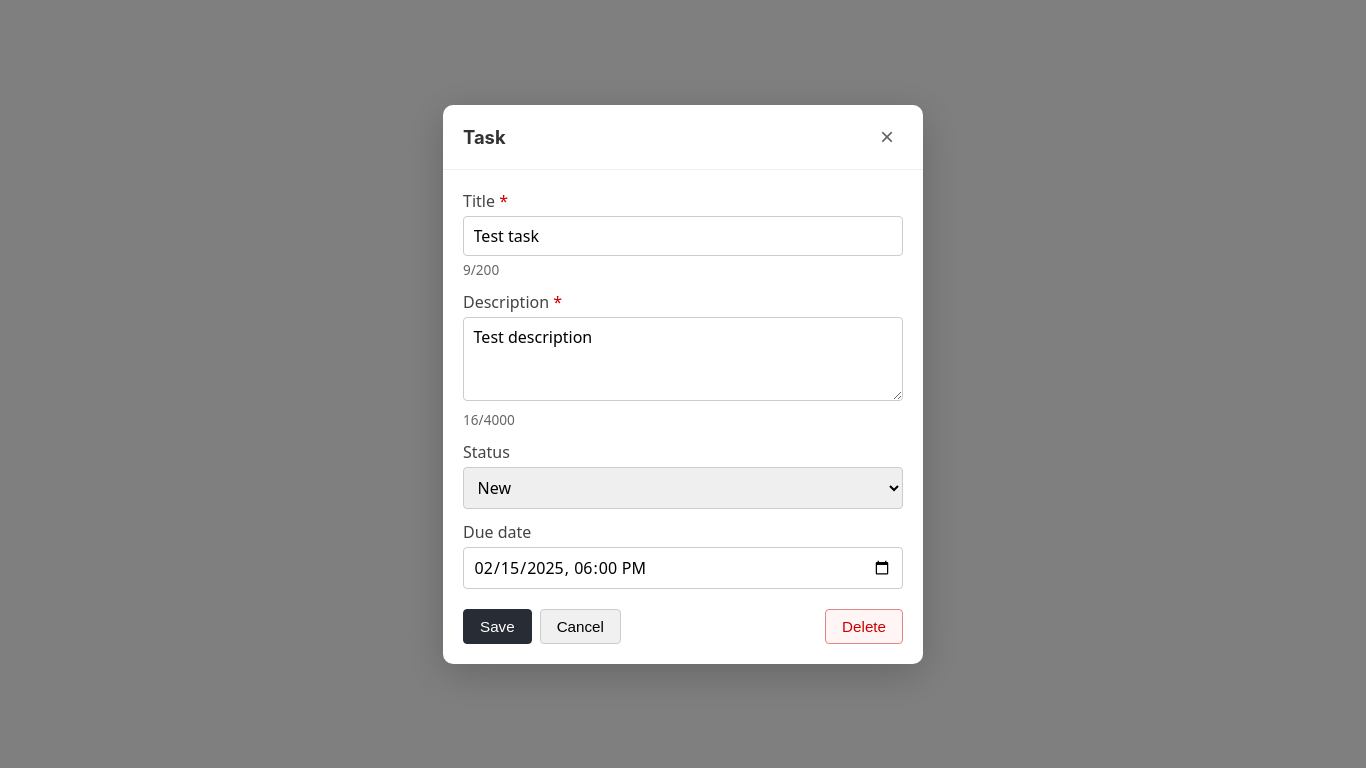
TaskDetailModal › closes delete confirm when Cancel is clicked
Click the button "Delete" at coordinates (864, 626), box [825,608,903,644]
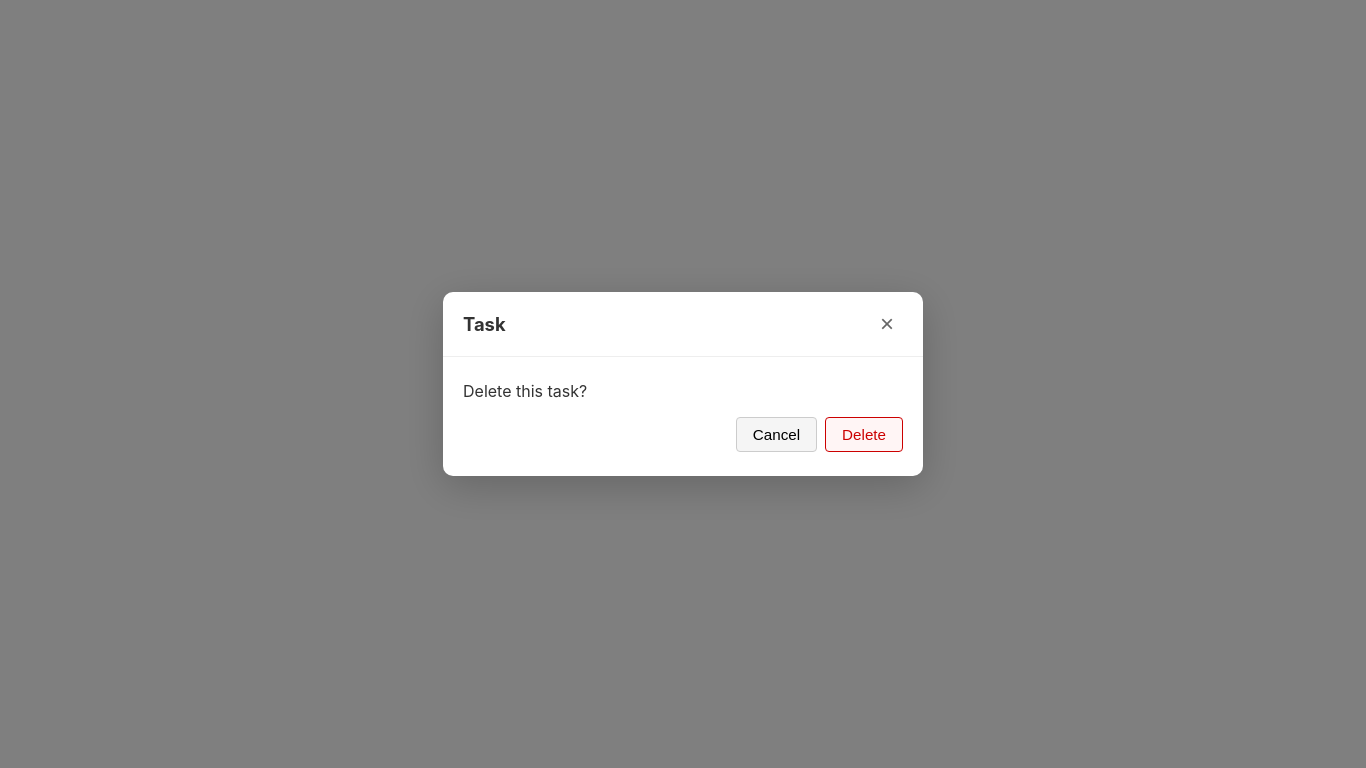
Result: the text "Delete this task?" is shown at [463,381,587,401]
Click the button "Cancel" at coordinates (776, 434), box [736,417,817,452]
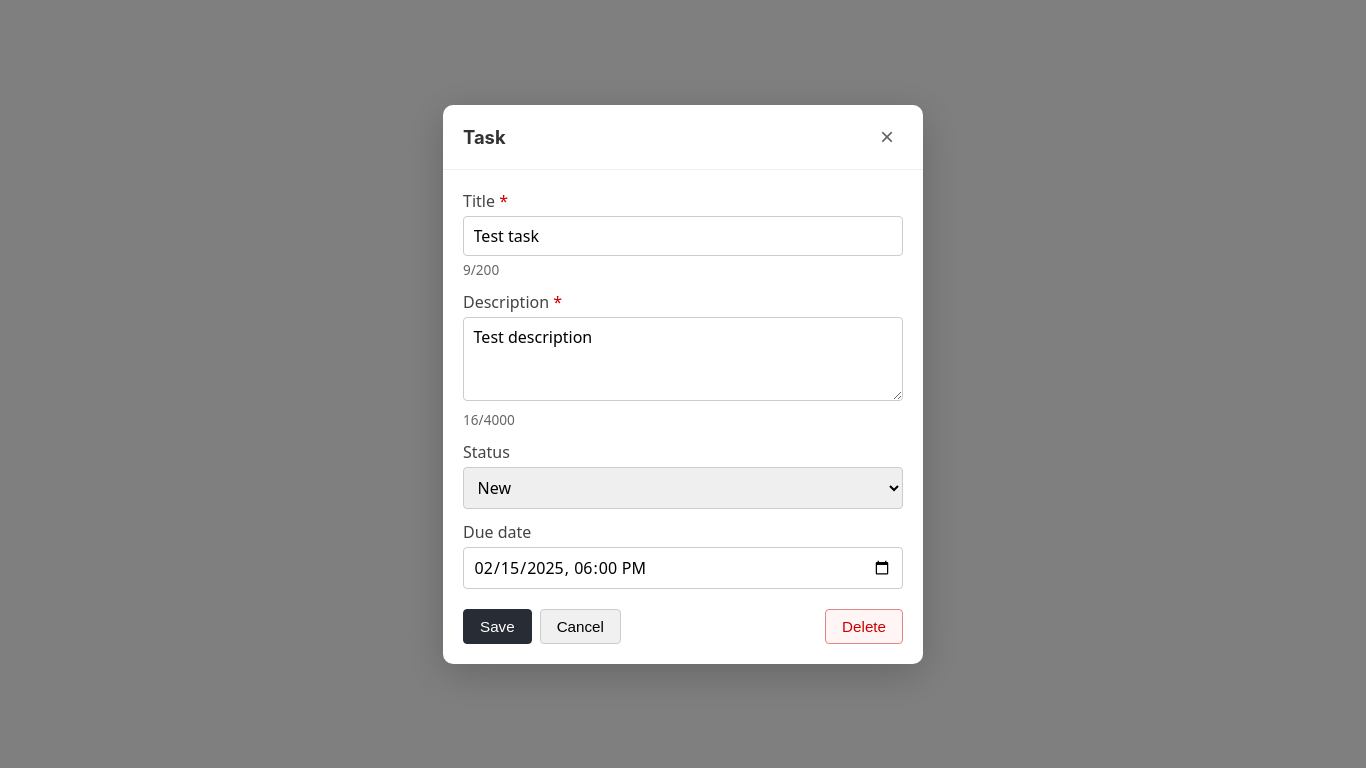
Result: the text "Delete this task?" is gone
